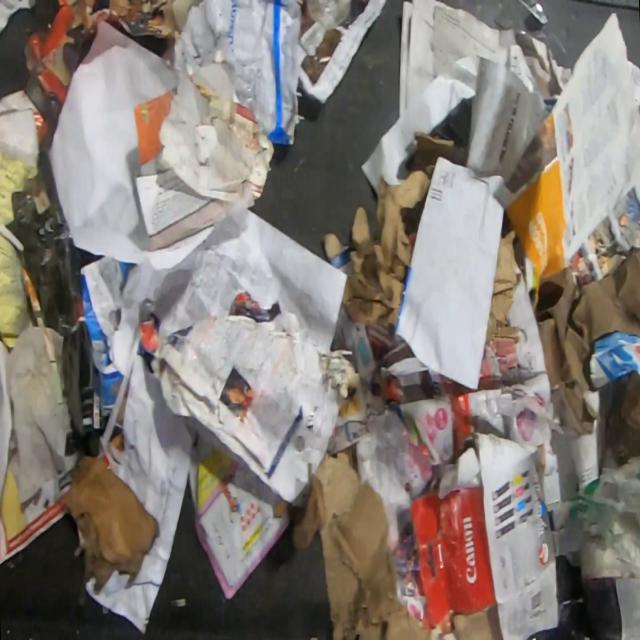cardboard: (409, 432, 562, 639), (290, 442, 433, 639), (320, 131, 457, 331), (55, 454, 159, 596), (486, 230, 524, 350), (451, 603, 504, 639), (518, 0, 549, 25)
soft_plastic: (531, 453, 640, 582), (306, 0, 352, 31)
